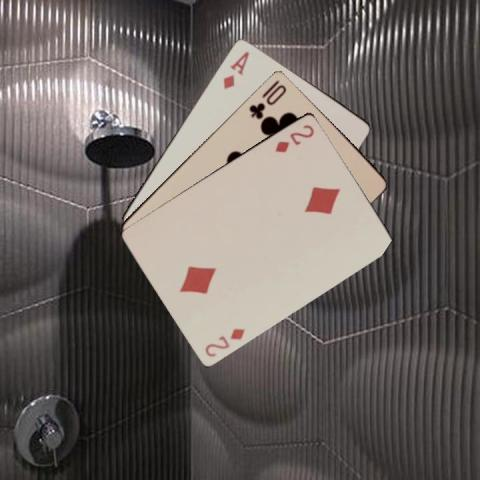10c: (245, 76, 288, 120)
2d: (201, 325, 247, 358), (272, 121, 316, 154)
Ad: (220, 48, 251, 91)
